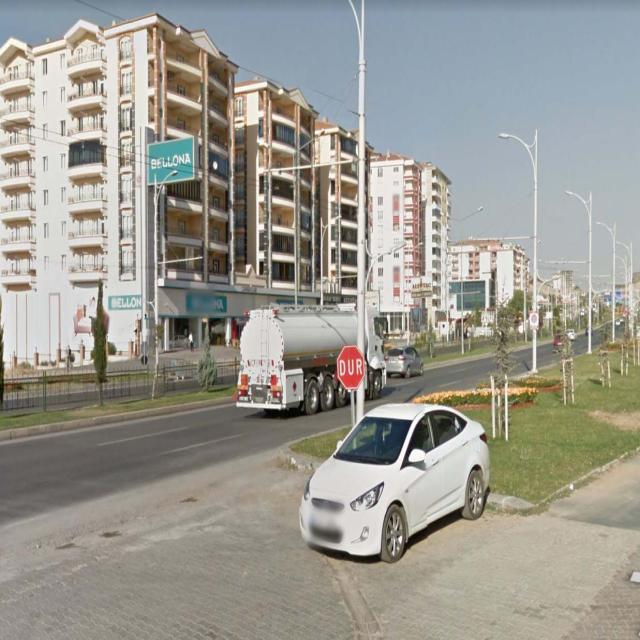dur: (337, 345, 365, 391)
